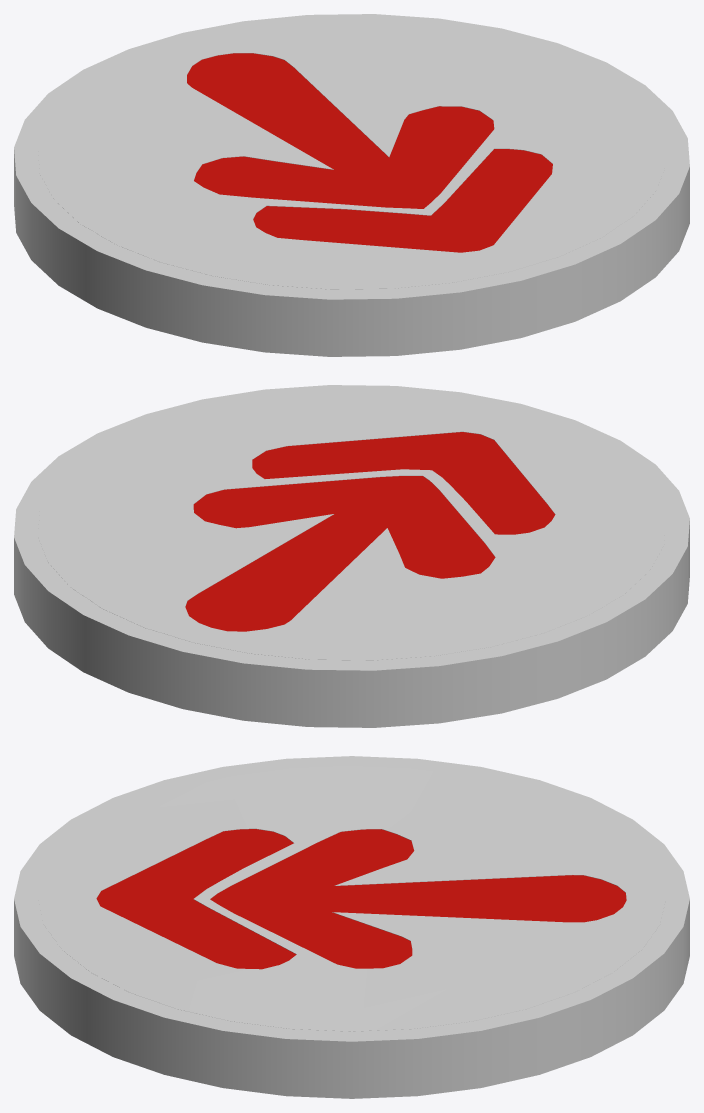
Rendered from double drop token.fbx.
3 renders of one model, top to bottom at view 1: azimuth 30°, elevation 25°; view 2: azimuth 150°, elevation 25°; view 3: azimuth 270°, elevation 25°, orthographic.
Visible parts, largest first — view 1: Cylinder.006; view 2: Cylinder.006; view 3: Cylinder.006.
Boxes of the visible parts, x1=… form: Cylinder.006: x1=14, y1=14, x2=689, y2=356; Cylinder.006: x1=14, y1=385, x2=689, y2=727; Cylinder.006: x1=14, y1=756, x2=689, y2=1098.
Bounding box in the file's own units: 66.18 × 6.38 × 66.18.
